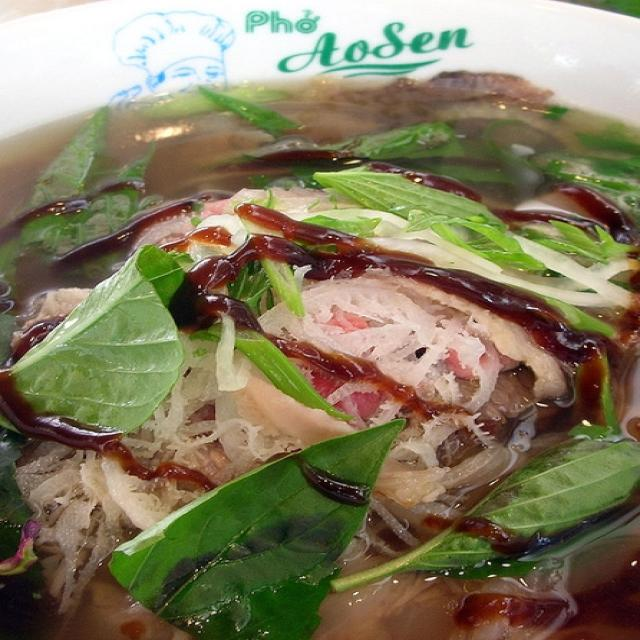面条主食: (18, 82, 622, 620)
